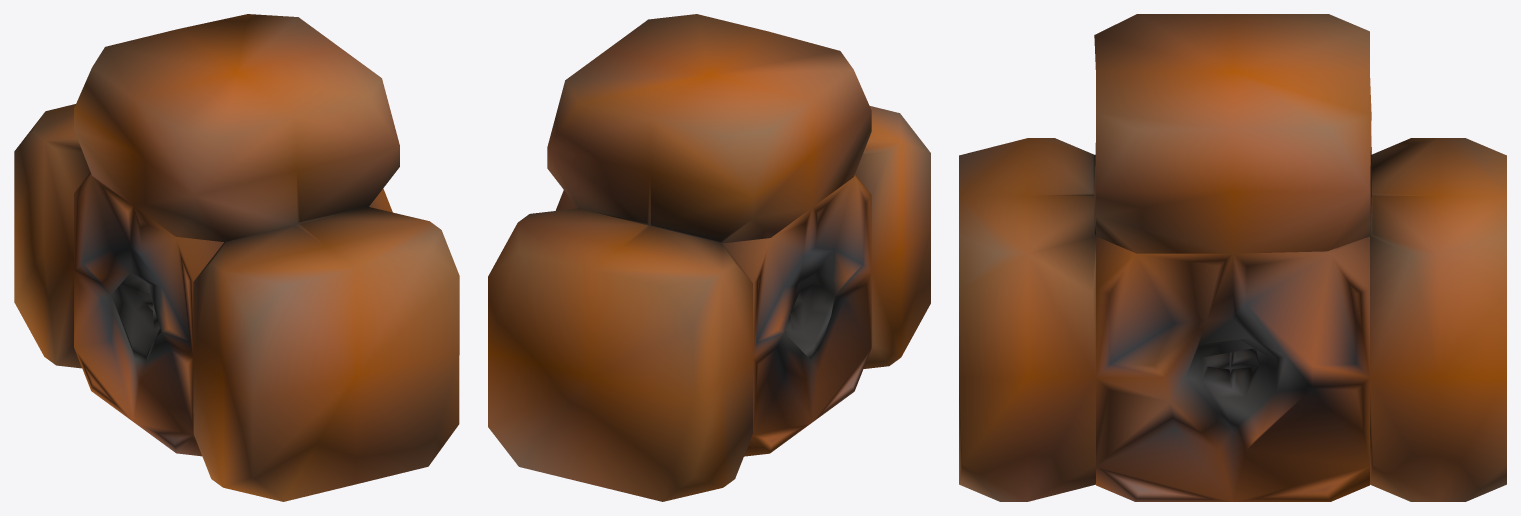
Rendered from battery_box_lod3.glb.
3 views of the same model, side by side, from view 1: azimuth 30°, elevation 25°; view 2: azimuth 150°, elevation 25°; view 3: azimuth 270°, elevation 25° (orthographic). The views are drawn at different scales.
Parts seen in each view (by area): view 1: battery_box; view 2: battery_box; view 3: battery_box.
Part boxes in pixels (x1,y1,x2,y2): battery_box: [14, 14, 459, 501]; battery_box: [488, 14, 930, 501]; battery_box: [959, 14, 1506, 501].
Size of the model in its own units: 2.03 by 3.01 by 4.
